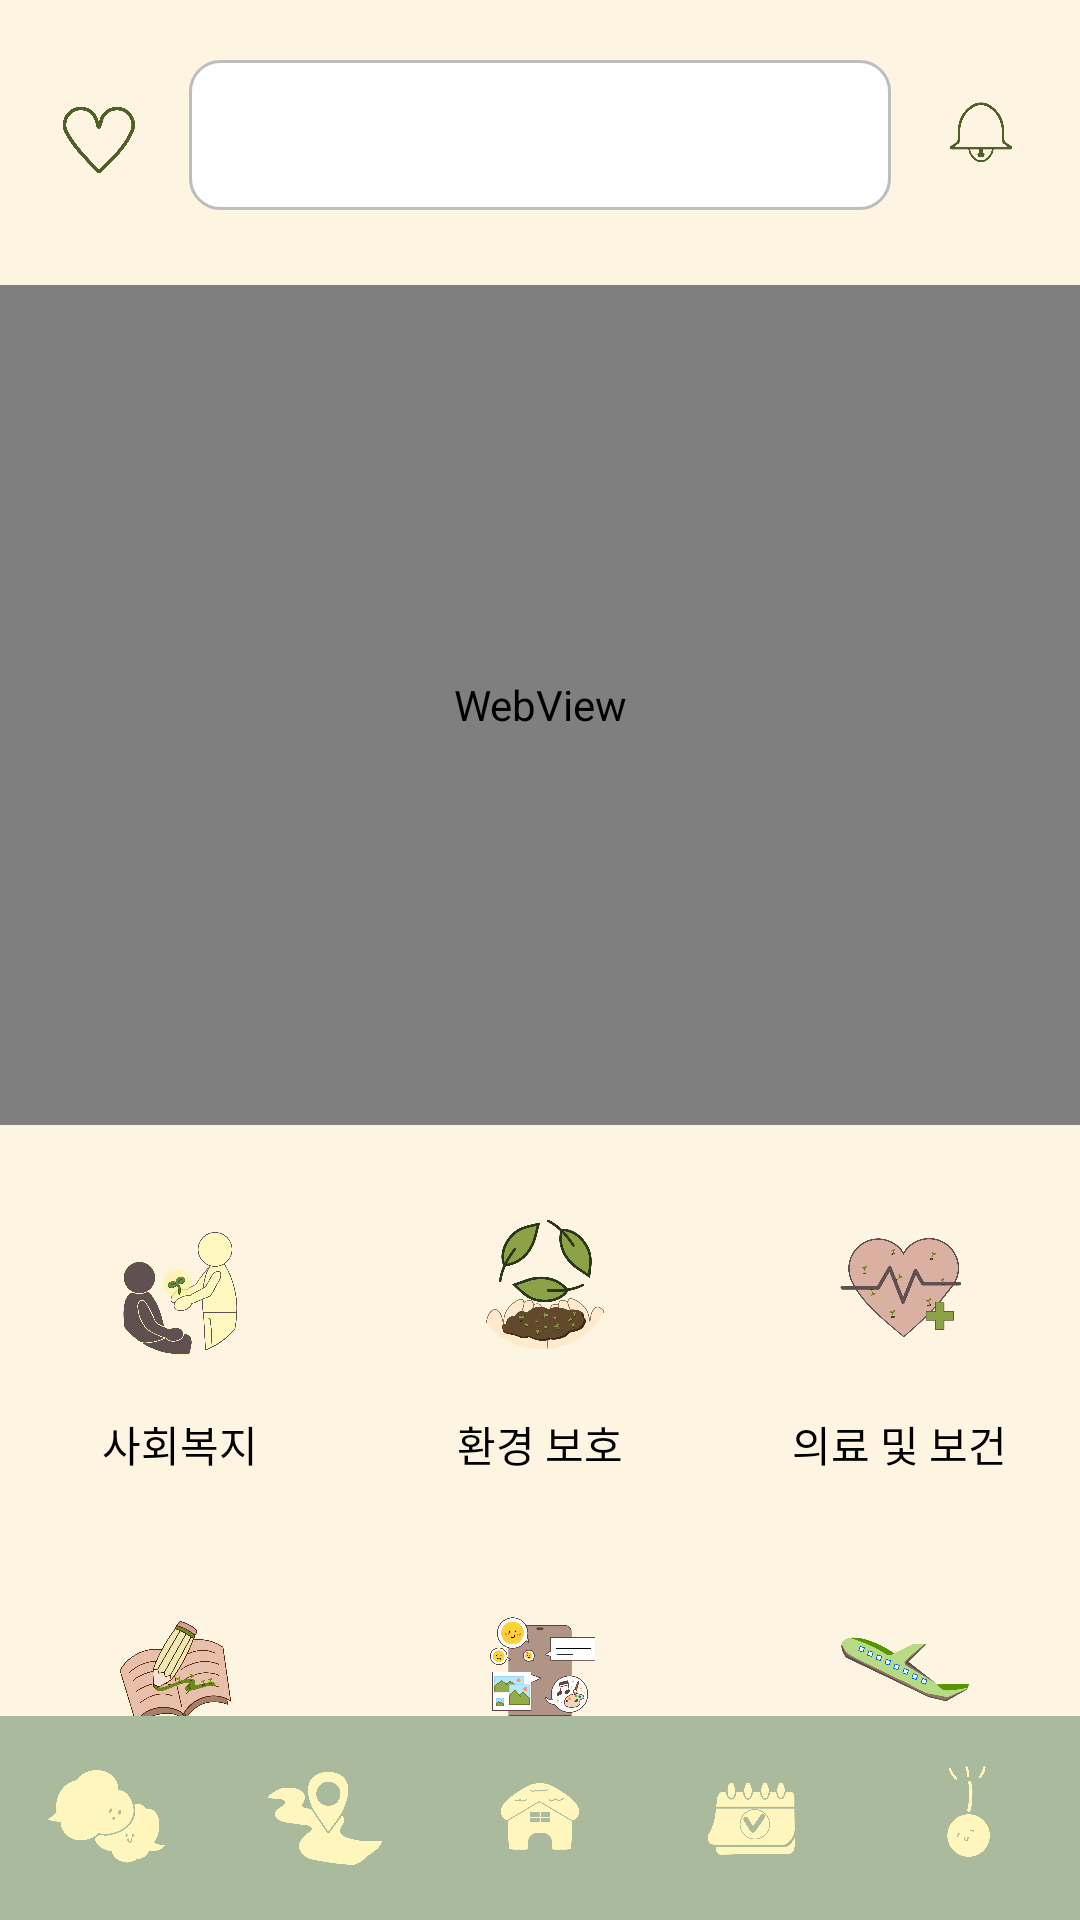

Where to tap for icons on this 1080px×1920px app screen, as (x=x, y=y):
calendar: (x=751, y=1819)
chatting: (x=106, y=1816)
home: (x=540, y=1816)
map: (x=325, y=1818)
스크랩 버튼: (x=99, y=140)
알림 버튼: (x=981, y=132)
